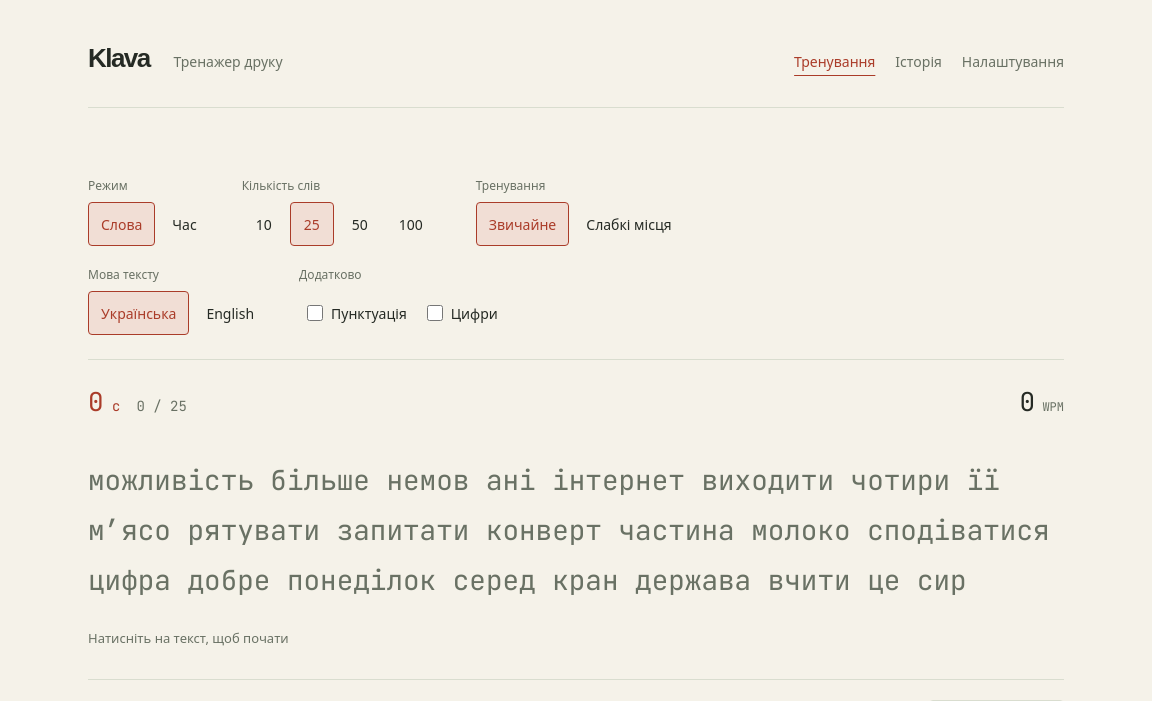
Test case: remembers the word count when switching between words and time
What coordinates should you click on to do the following:
click the radio button labelled "50"
I would click on:
 (360, 224)
Its box is top-left (352, 215), bottom-right (368, 234).
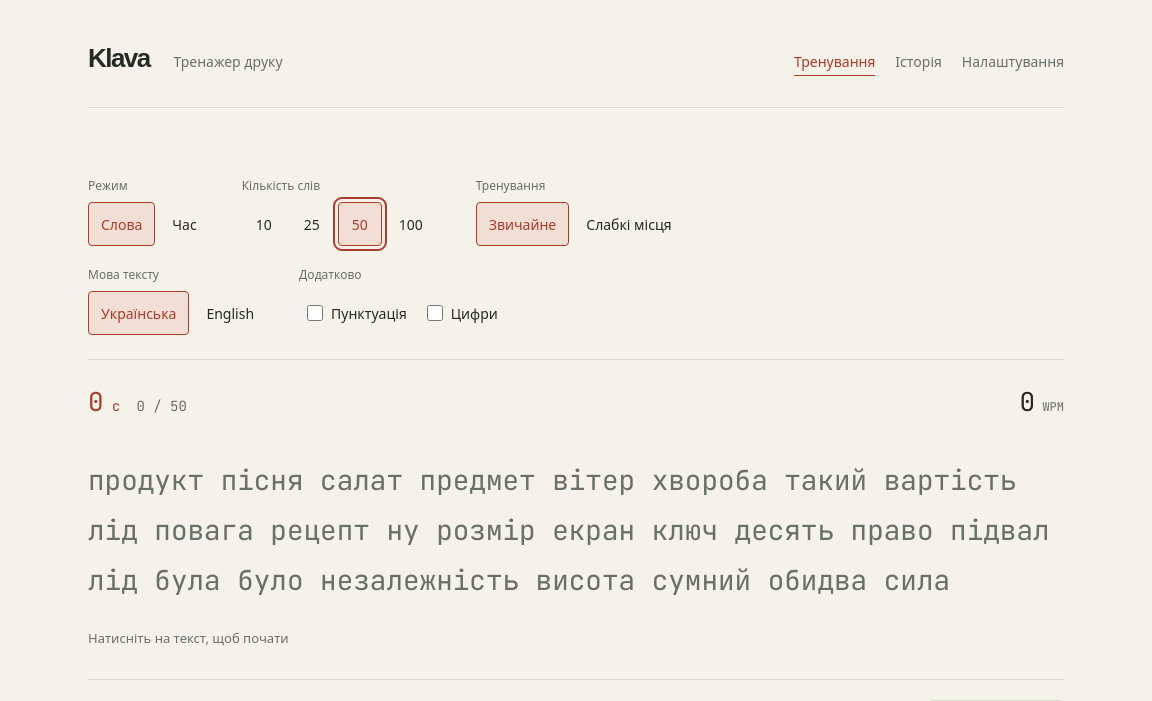
What coordinates should you click on to do the following:
click the radio button labelled "Час"
I would click on:
 (184, 224)
Its box is top-left (172, 215), bottom-right (197, 234).
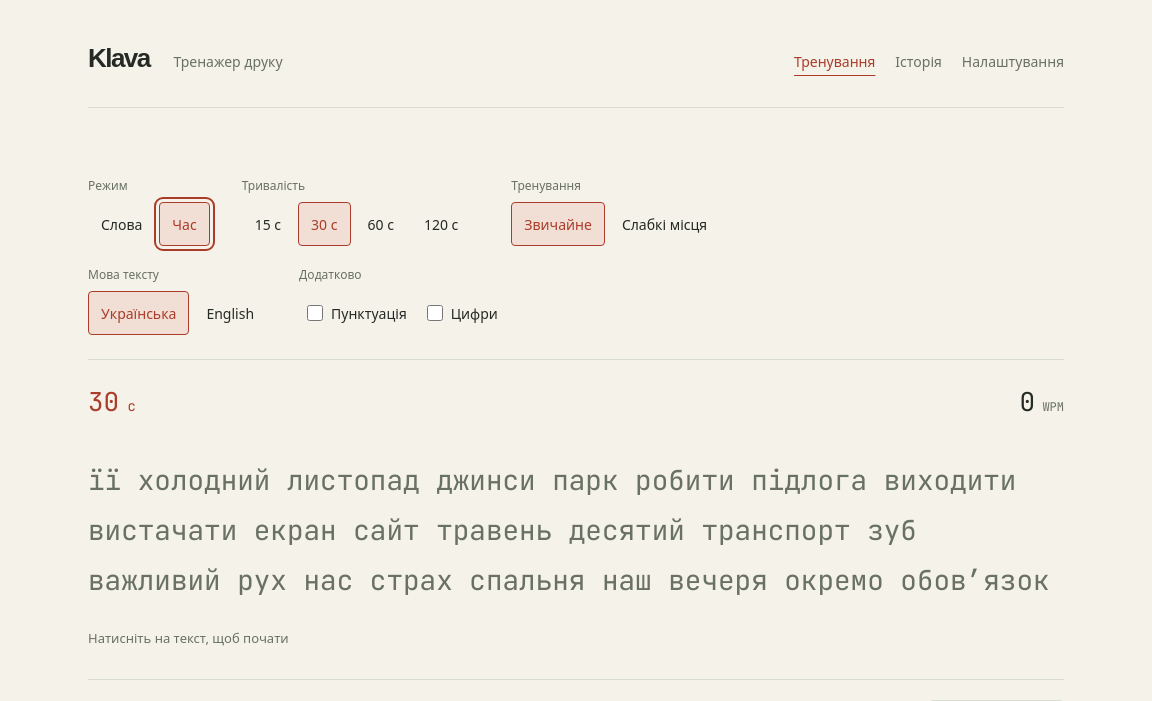
Expected: the text "Кількість слів" is gone
What coordinates should you click on to do the following:
click the radio button labelled "English"
I would click on:
 (230, 313)
Its box is top-left (206, 304), bottom-right (254, 323).
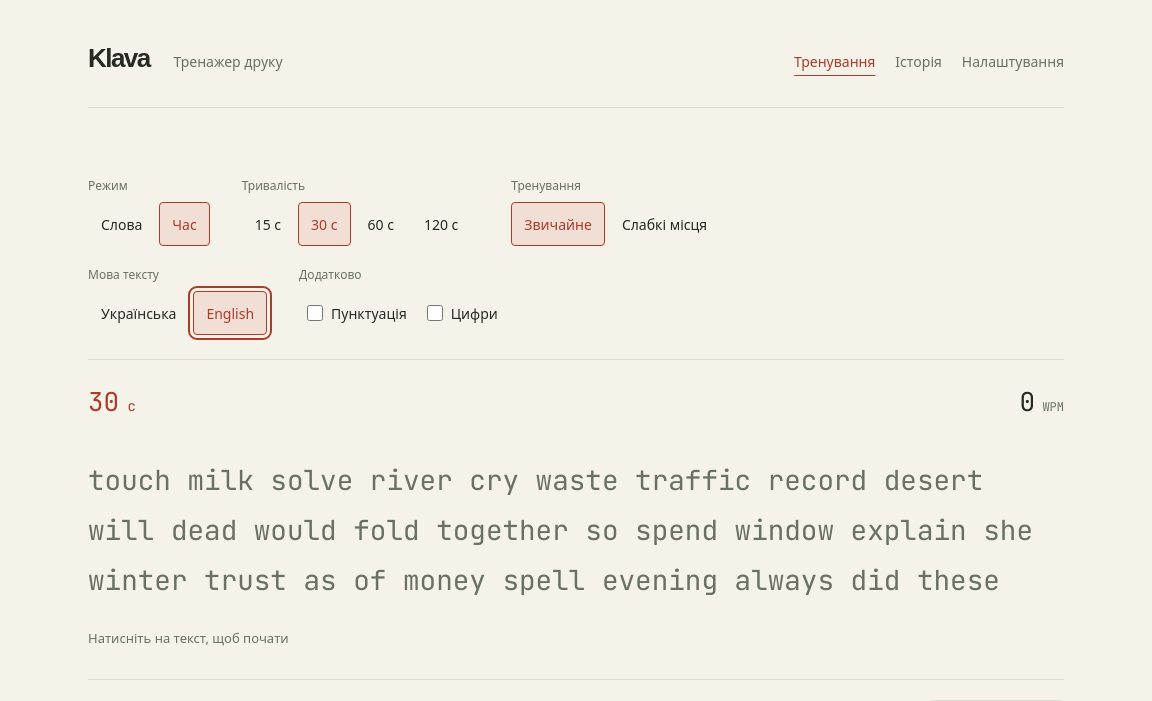
What coordinates should you click on to do the following:
click the radio button labelled "Слова"
I would click on:
 (122, 224)
Its box is top-left (101, 215), bottom-right (142, 234).
(page scrolled)
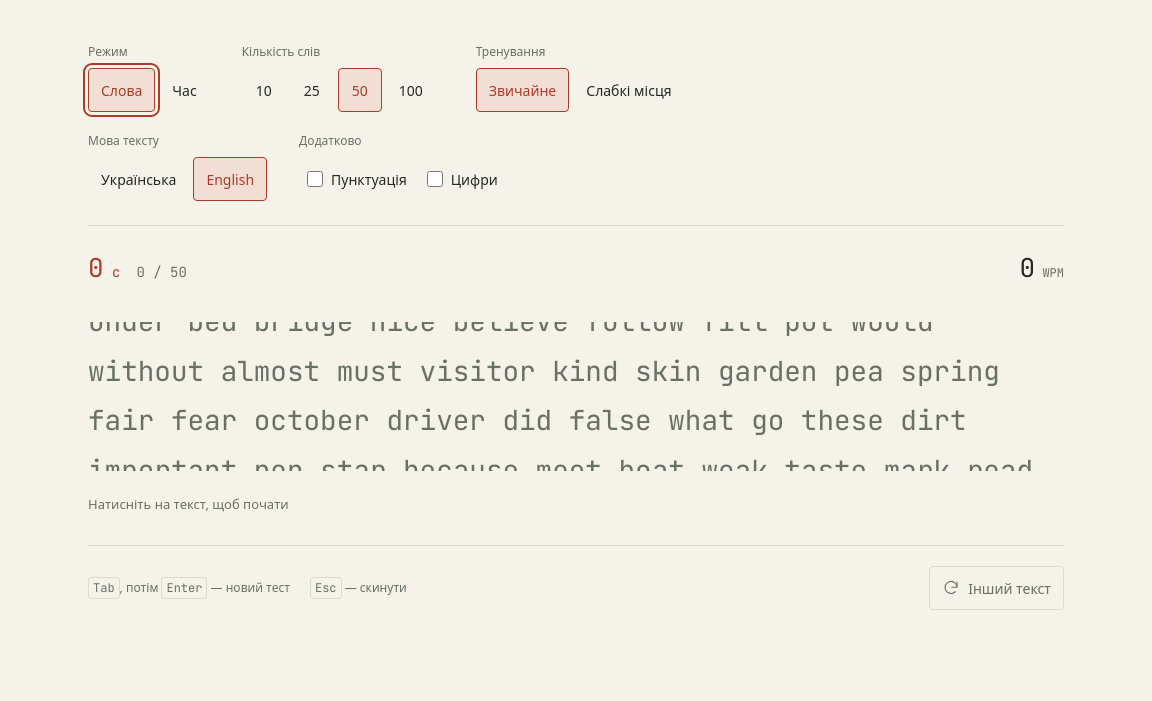
Expected: the radio button labelled "50" is checked, top-left (338, 68), bottom-right (382, 112)
